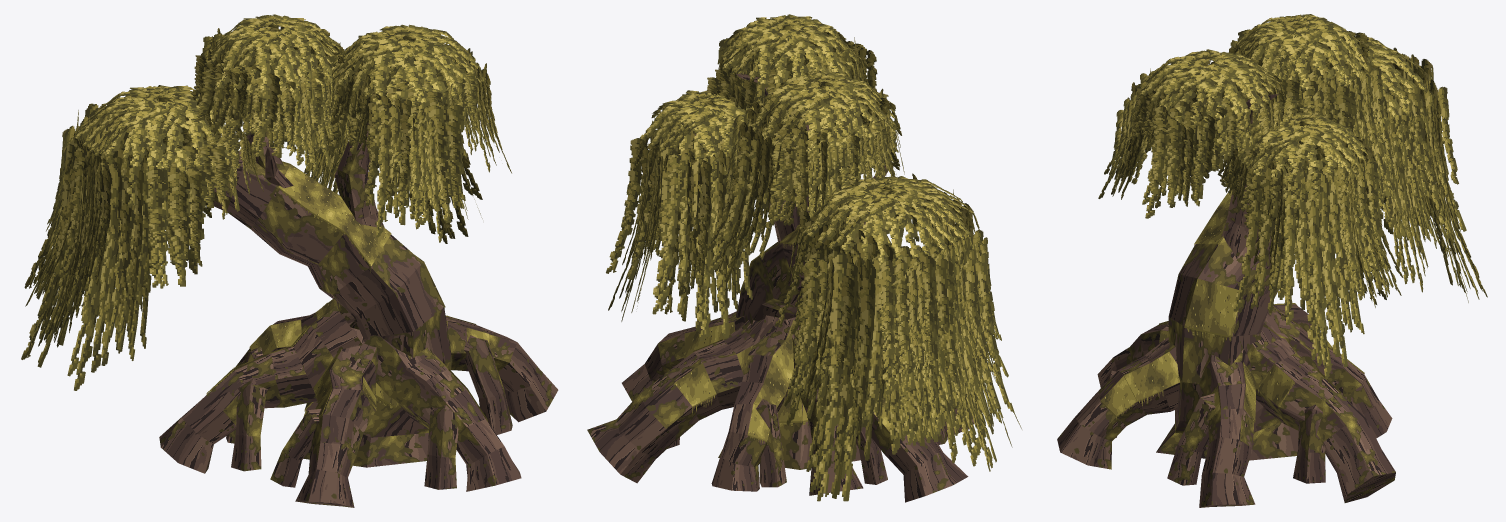
File: SM_SW09_DrownedWillowArch.fbx
The picture shows the model from 3 angles, left to right: view 1: azimuth 30°, elevation 25°; view 2: azimuth 150°, elevation 25°; view 3: azimuth 270°, elevation 25°; orthographic projection. The views are drawn at different scales.
Visible parts, largest first — view 1: SW09a_Plants, SW09a_Bark, SW09a_BarkMossy, SW09a_Moss; view 2: SW09a_Plants, SW09a_Bark, SW09a_BarkMossy, SW09a_Moss; view 3: SW09a_Plants, SW09a_Bark, SW09a_BarkMossy, SW09a_Moss.
Boxes of the visible parts, box(x1,y1,x2,y2) form: SW09a_Plants: box(21, 14, 511, 421); SW09a_Bark: box(159, 38, 558, 507); SW09a_BarkMossy: box(203, 151, 517, 467); SW09a_Moss: box(207, 164, 489, 419); SW09a_Plants: box(606, 14, 1021, 501); SW09a_Bark: box(587, 73, 982, 502); SW09a_BarkMossy: box(646, 220, 892, 469); SW09a_Moss: box(674, 224, 902, 441); SW09a_Plants: box(1098, 14, 1487, 421); SW09a_Bark: box(1057, 94, 1395, 507); SW09a_BarkMossy: box(1129, 209, 1361, 460); SW09a_Moss: box(1101, 189, 1362, 422).
Size of the model in its own units: 8.83 by 7.72 by 7.57.
